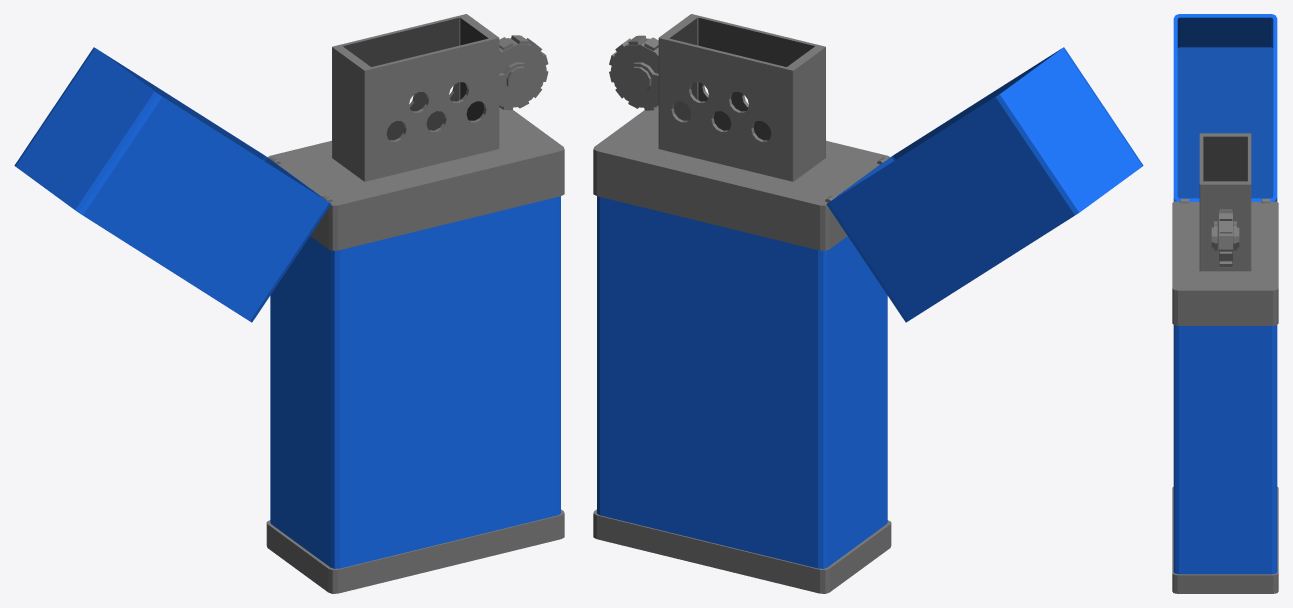
Rendered from lighter.glb.
3 views of the same model, side by side, from view 1: azimuth 30°, elevation 25°; view 2: azimuth 150°, elevation 25°; view 3: azimuth 270°, elevation 25° (orthographic). The views are drawn at different scales.
Visible parts, largest first — view 1: Cube.009; view 2: Cube.009; view 3: Cube.009.
Boxes of the visible parts, box(x1,y1,x2,y2) form: Cube.009: box(14, 14, 564, 593); Cube.009: box(593, 14, 1143, 593); Cube.009: box(1172, 14, 1278, 593).
Size of the model in its own units: 0.6661 by 0.6917 by 0.157.
1 material, 1 textured.
